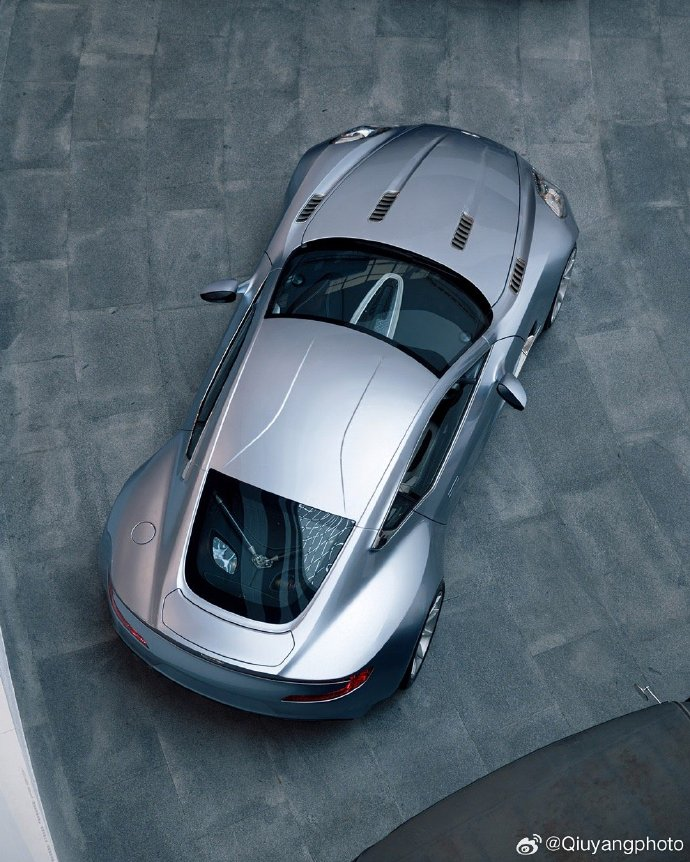other: (97, 110, 587, 737)
